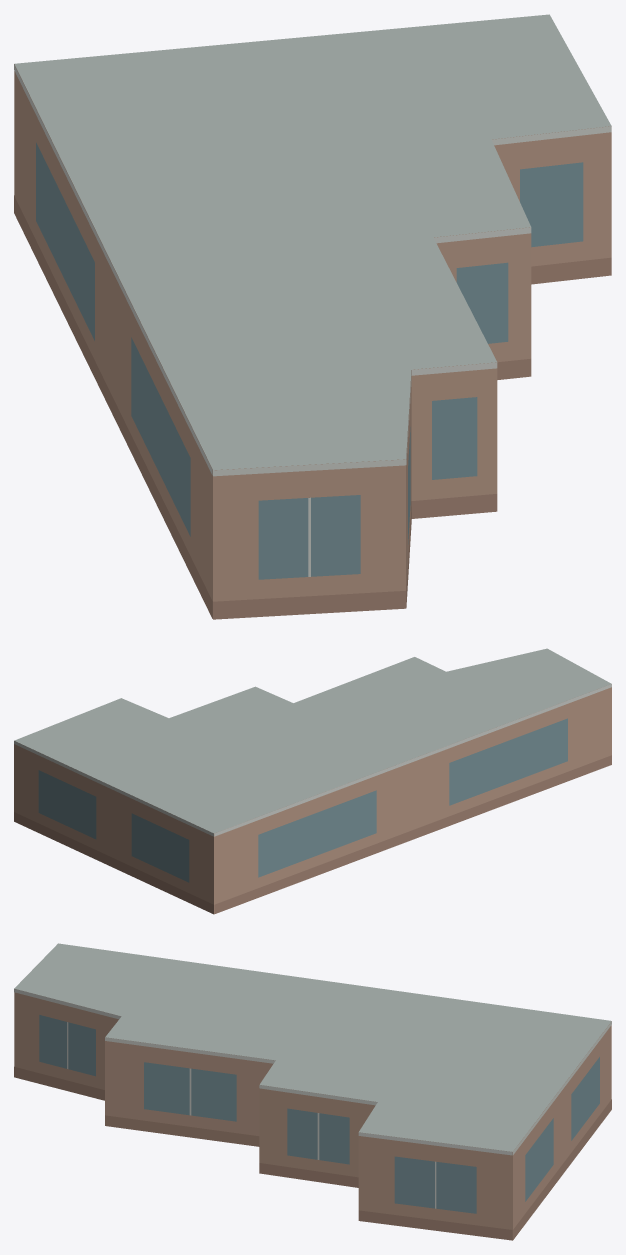
The model's file is survey-upis-32989426.glb.
3 renders of one model, top to bottom at view 1: azimuth 30°, elevation 25°; view 2: azimuth 150°, elevation 25°; view 3: azimuth 270°, elevation 25°, orthographic. The views are drawn at different scales.
Visible parts, largest first — view 1: survey-upis-32989426.tmp; view 2: survey-upis-32989426.tmp; view 3: survey-upis-32989426.tmp.
Boxes of the visible parts, x1,y1,x2,y2 form: survey-upis-32989426.tmp: (14,14,611,619); survey-upis-32989426.tmp: (14,648,611,914); survey-upis-32989426.tmp: (14,943,611,1240).
Size of the model in its own units: 15.4 by 3.05 by 18.65.
